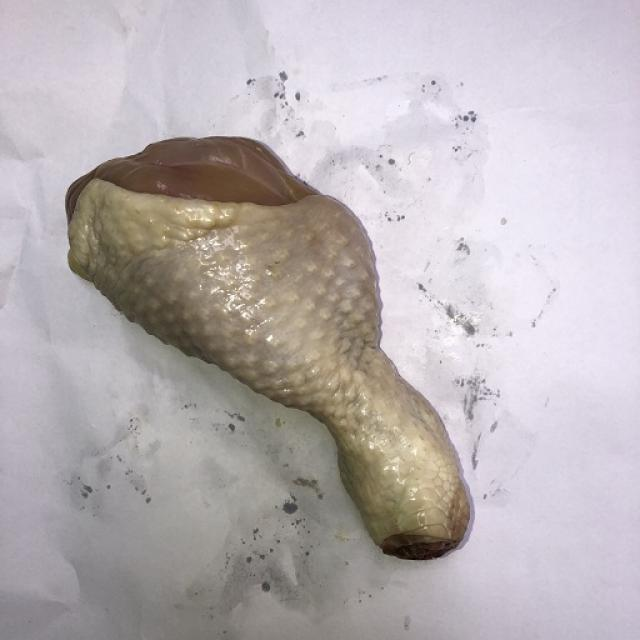Chicken: (42, 105, 498, 578)
